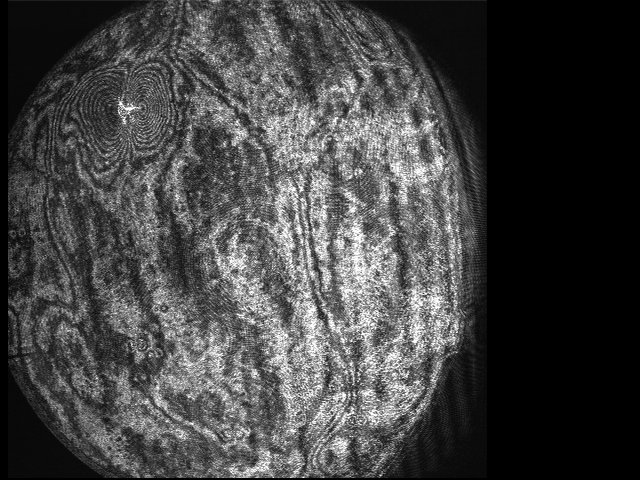plume: (79, 63, 177, 186)
